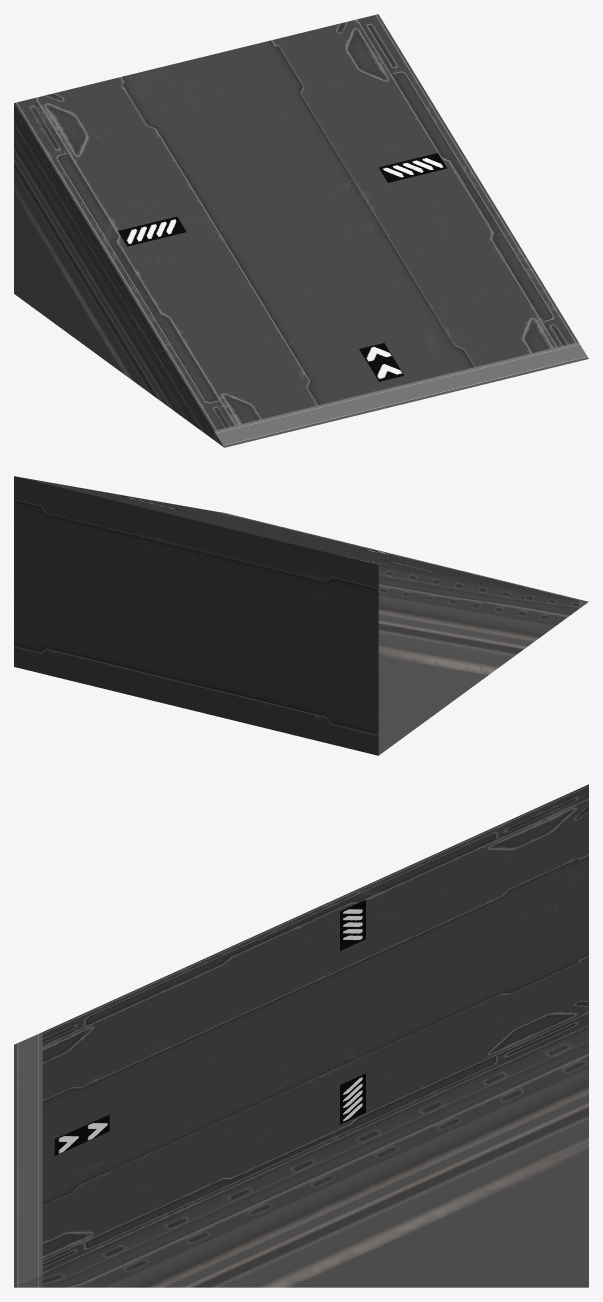
The model's file is Platform_Ramp_2.gltf.
The picture shows the model from 3 angles, top to bottom: view 1: azimuth 30°, elevation 25°; view 2: azimuth 150°, elevation 25°; view 3: azimuth 270°, elevation 25°; orthographic projection. The views are drawn at different scales.
Parts seen in each view (by area): view 1: Platform_Ramp_2; view 2: Platform_Ramp_2; view 3: Platform_Ramp_2.
Boxes of the visible parts, x1,y1,x2,y2 form: Platform_Ramp_2: [14, 14, 588, 447]; Platform_Ramp_2: [14, 476, 588, 755]; Platform_Ramp_2: [14, 784, 588, 1287].
Size of the model in its own units: 2 by 1 by 2.
Materials: 3 (3 with a texture image).
